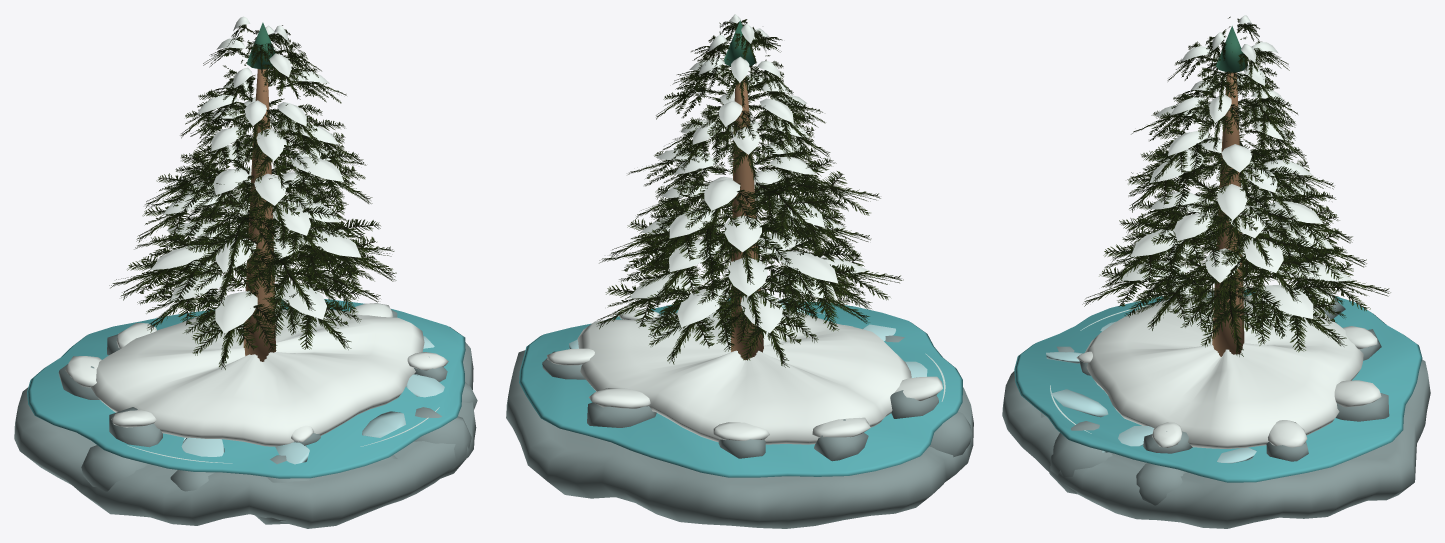
The model's file is snowy-island-v7.fbx.
3 views of the same model, side by side, from view 1: azimuth 30°, elevation 25°; view 2: azimuth 150°, elevation 25°; view 3: azimuth 270°, elevation 25° (orthographic). The views are drawn at different scales.
Visible parts, largest first — view 1: Snowy | Snow | soft, Snowy | Pine | twig atlas, Snowy | Rock | blue grey, Snowy | Sea | icy turquoise, Snowy | Pine | bark, Snowy | Ice | pale blue, Snowy | Pine | needles; view 2: Snowy | Snow | soft, Snowy | Pine | twig atlas, Snowy | Rock | blue grey, Snowy | Sea | icy turquoise, Snowy | Pine | bark, Snowy | Ice | pale blue, Snowy | Pine | needles; view 3: Snowy | Snow | soft, Snowy | Pine | twig atlas, Snowy | Rock | blue grey, Snowy | Sea | icy turquoise, Snowy | Pine | bark, Snowy | Ice | pale blue, Snowy | Pine | needles.
Boxes of the visible parts, x1,y1,x2,y2 form: Snowy | Snow | soft: (65, 16, 448, 446); Snowy | Pine | twig atlas: (109, 24, 396, 369); Snowy | Rock | blue grey: (14, 309, 477, 528); Snowy | Sea | icy turquoise: (27, 297, 465, 478); Snowy | Pine | bark: (243, 69, 275, 361); Snowy | Ice | pale blue: (181, 336, 444, 464); Snowy | Pine | needles: (247, 22, 275, 69); Snowy | Snow | soft: (547, 14, 942, 444); Snowy | Pine | twig atlas: (596, 19, 903, 367); Snowy | Rock | blue grey: (506, 301, 973, 528); Snowy | Sea | icy turquoise: (519, 298, 962, 477); Snowy | Pine | bark: (731, 76, 763, 360); Snowy | Ice | pale blue: (569, 298, 927, 377); Snowy | Pine | needles: (724, 20, 756, 66); Snowy | Snow | soft: (1076, 15, 1381, 448); Snowy | Pine | twig atlas: (1082, 16, 1390, 356); Snowy | Rock | blue grey: (1002, 291, 1430, 528); Snowy | Sea | icy turquoise: (1014, 288, 1422, 482); Snowy | Pine | bark: (1212, 72, 1244, 356); Snowy | Ice | pale blue: (1046, 321, 1256, 463); Snowy | Pine | needles: (1216, 26, 1248, 72).
Size of the model in its own units: 164 by 162 by 144.
Materials: 8 (1 with a texture image).
